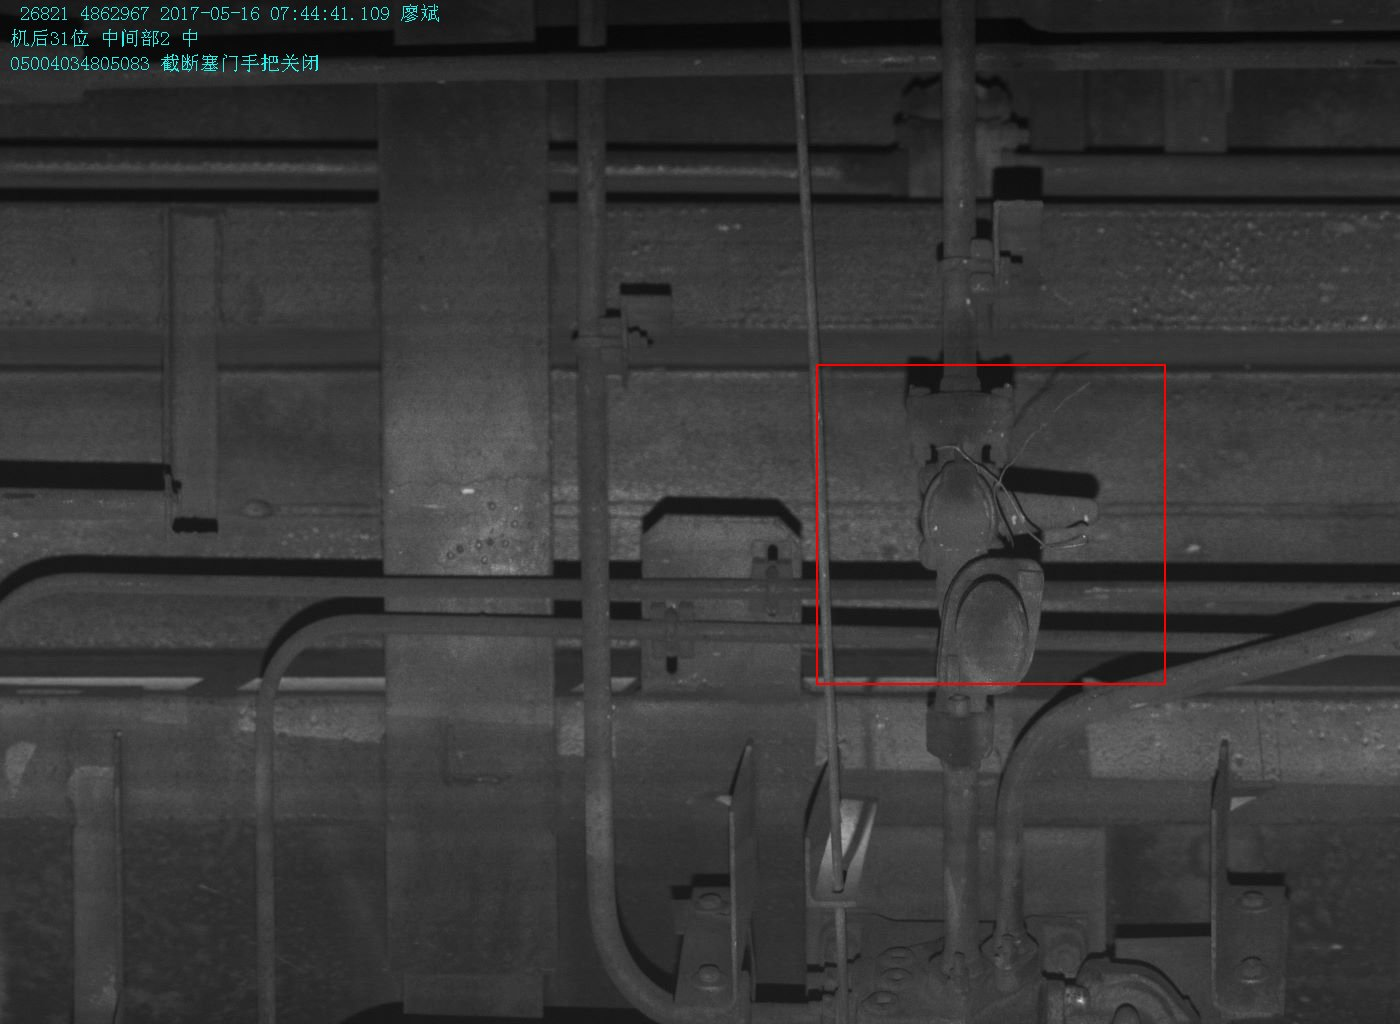truncated plug door handle: (917, 458, 1103, 570)
